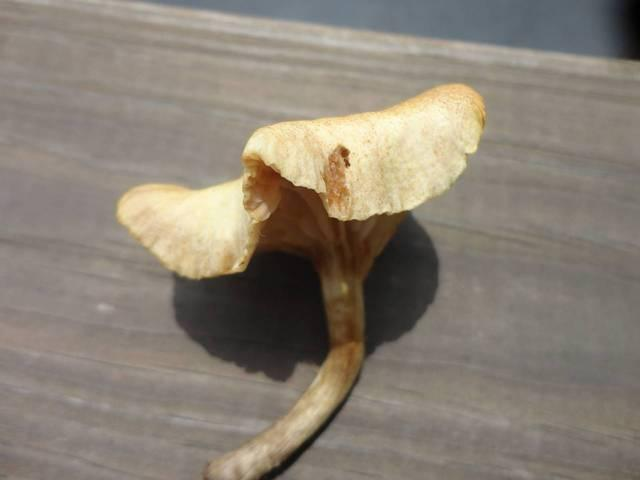Edible Mushroom: (114, 80, 487, 479)
